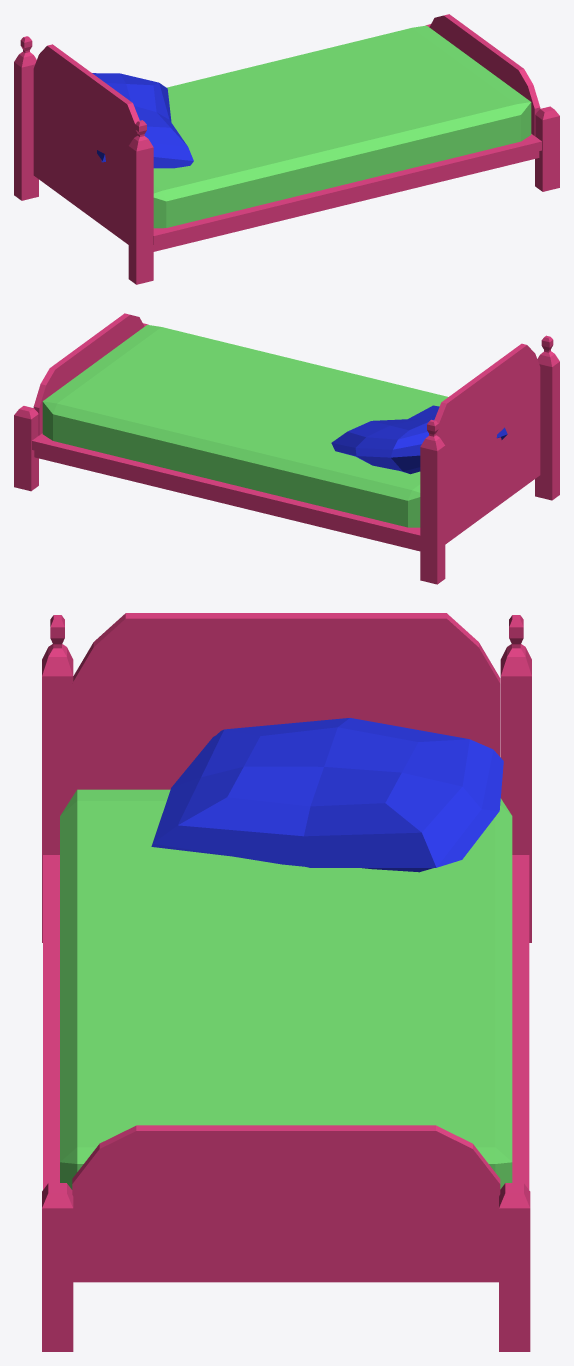
Rendered from single bed.fbx.
The picture shows the model from 3 angles, top to bottom: view 1: azimuth 30°, elevation 25°; view 2: azimuth 150°, elevation 25°; view 3: azimuth 270°, elevation 25°; orthographic projection. The views are drawn at different scales.
Parts seen in each view (by area): view 1: mattress, bed frame, pillow 1; view 2: mattress, bed frame, pillow 1; view 3: bed frame, mattress, pillow 1.
Part boxes in pixels (x1,y1,x2,y2): mattress: (153,25,531,228); bed frame: (14,14,559,284); pillow 1: (92,73,193,168); mattress: (42,325,447,527); bed frame: (14,313,559,584); pillow 1: (331,405,507,474); bed frame: (42,613,531,1351); mattress: (60,789,512,1189); pillow 1: (151,718,503,872).
Size of the model in its own units: 920 by 350 by 461.
